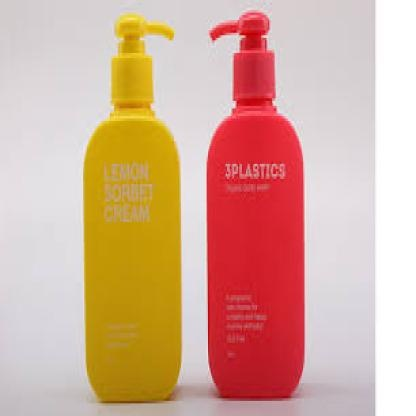trash: (84, 13, 180, 401), (207, 11, 303, 397)
